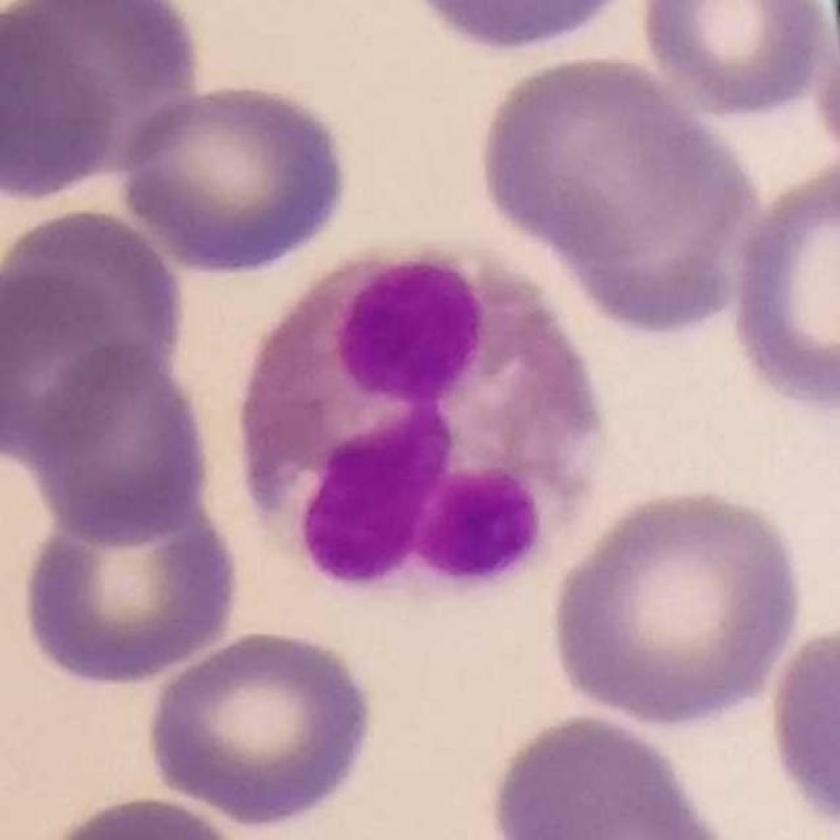eosinophil: (241, 239, 617, 591)
